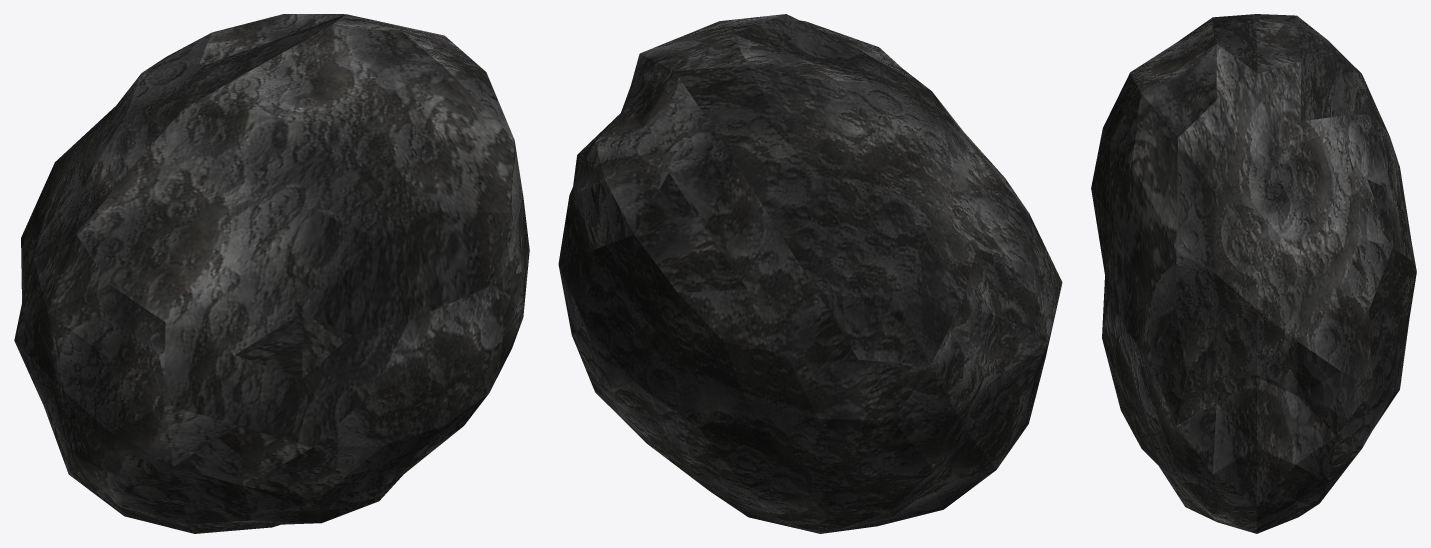
File: meteor.glb
The picture shows the model from 3 angles, left to right: view 1: azimuth 30°, elevation 25°; view 2: azimuth 150°, elevation 25°; view 3: azimuth 270°, elevation 25°; orthographic projection. The views are drawn at different scales.
Parts seen in each view (by area): view 1: Icosphere; view 2: Icosphere; view 3: Icosphere.
Part boxes in pixels (left/top/right/bottom): Icosphere: left=14, top=14, right=529, bottom=533; Icosphere: left=558, top=14, right=1062, bottom=533; Icosphere: left=1091, top=14, right=1416, bottom=533.
Bounding box in the file's own units: 12.88 × 12.62 × 7.69.
Materials: 1 (1 with a texture image).
